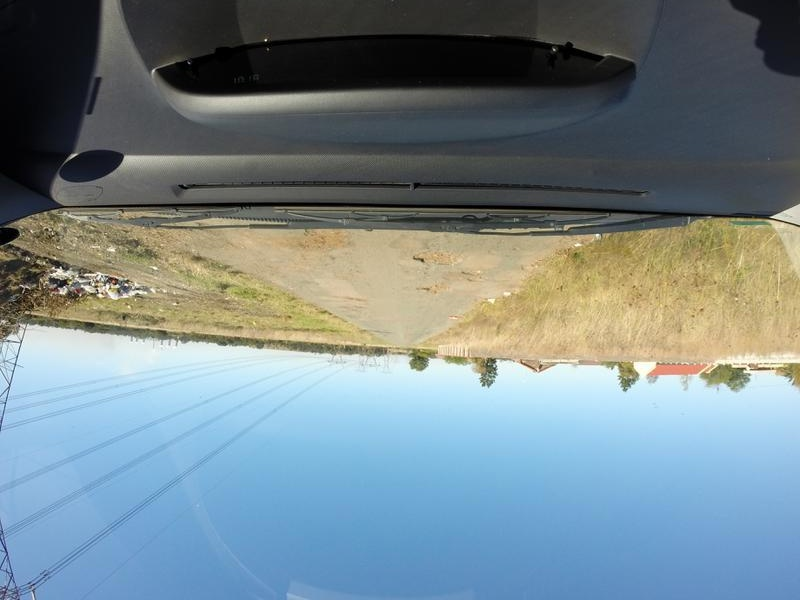pothole: (301, 230, 345, 256), (412, 253, 460, 267), (417, 279, 454, 296), (468, 277, 482, 287), (461, 270, 480, 277)
